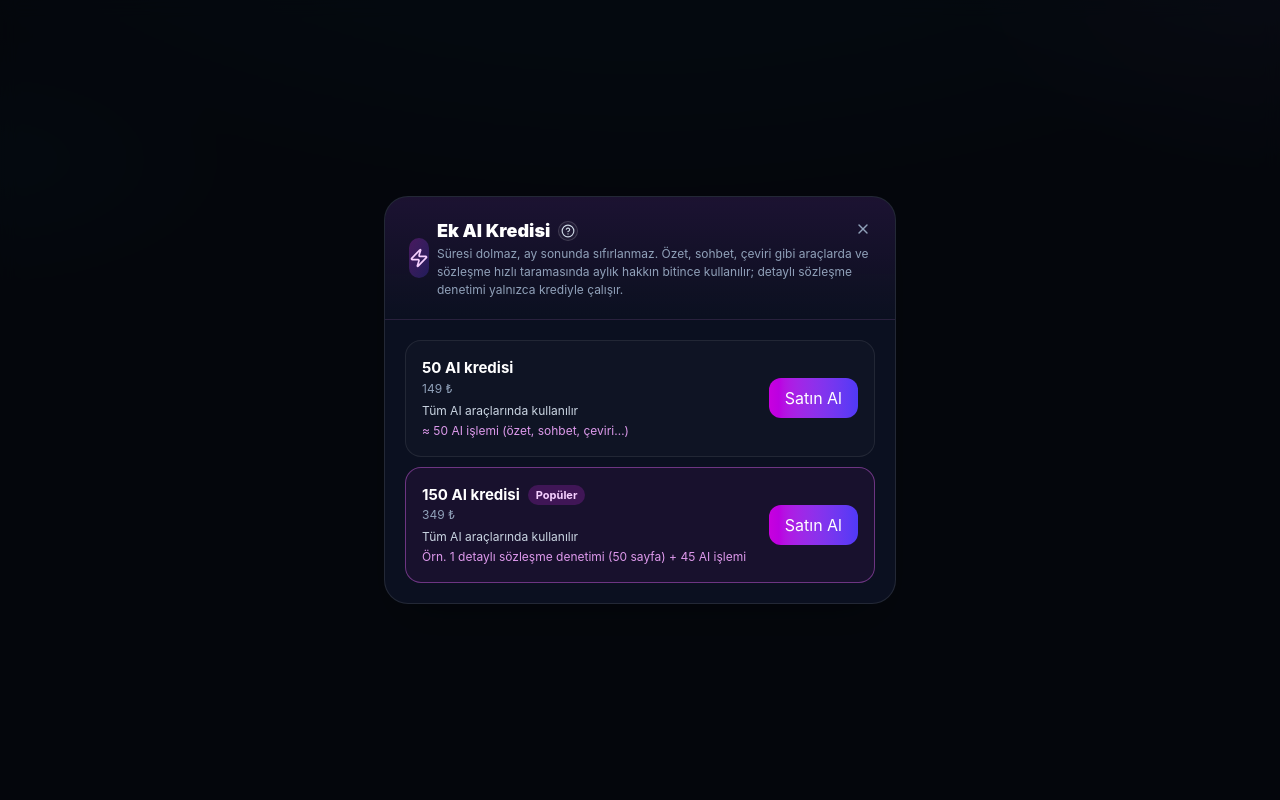
it: TopUpModal › shows an error message if starting checkout fails
What coordinates should you click on to do the following:
click the button "Satın Al" in the row of "149 ₺"
I would click on:
 (813, 398)
Its box is [769, 378, 858, 418].
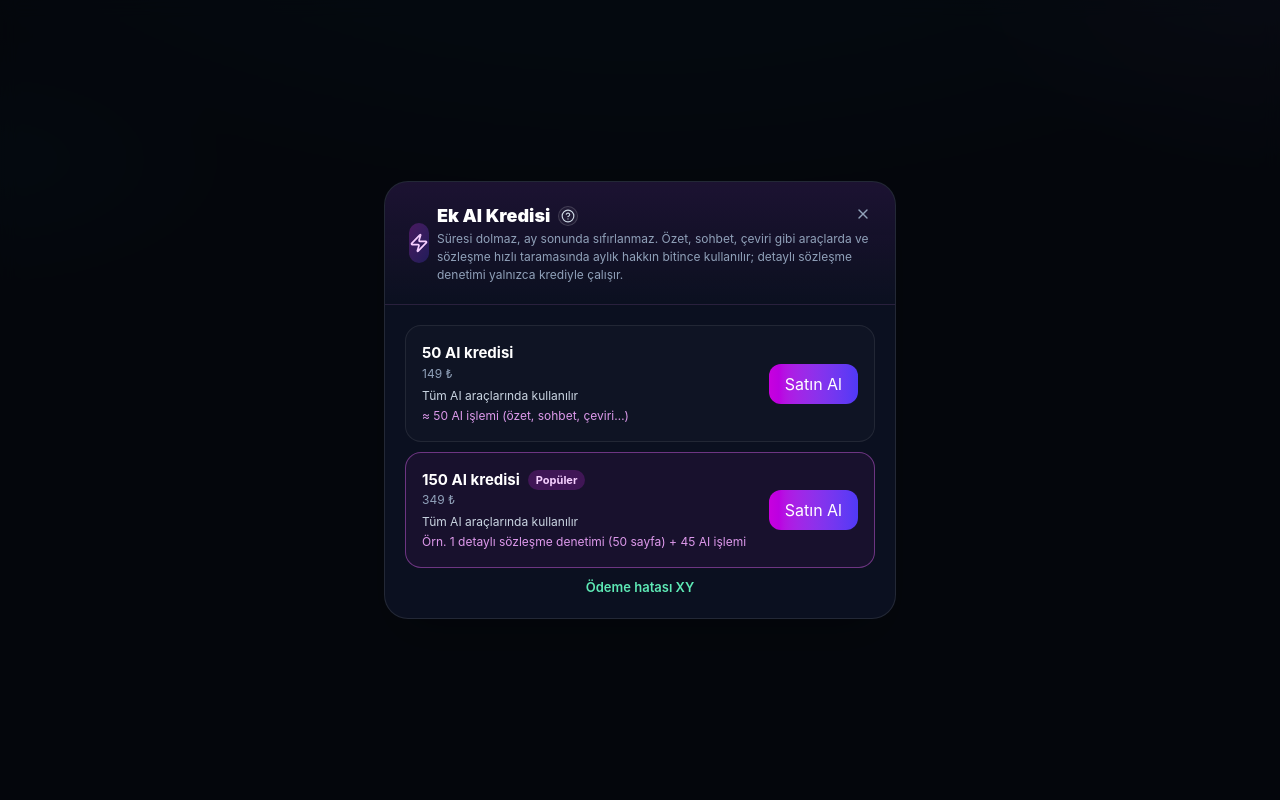
Check: the text "Ödeme hatası XY" is shown, box [586, 579, 694, 595]
